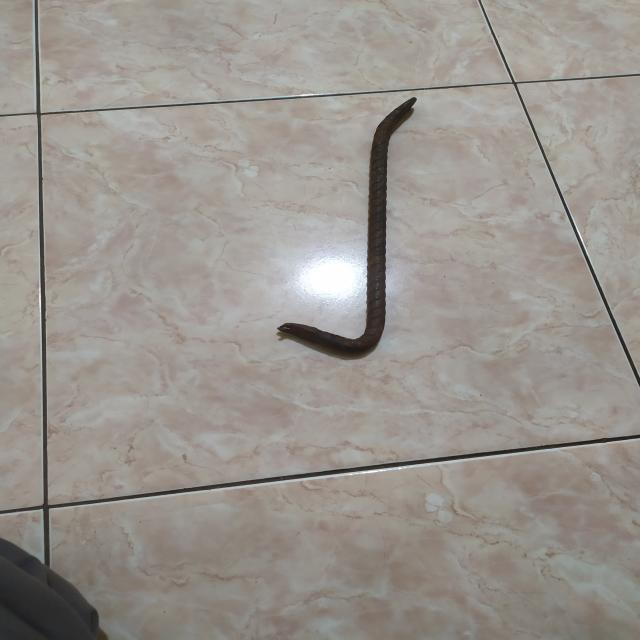Linggis: (281, 99, 426, 361)
